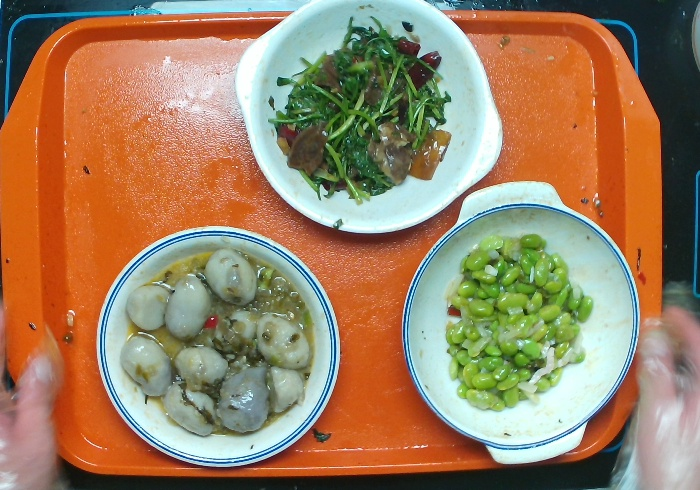HZYJPL-Dai_Er_Bai_Yuan_Wan: (225, 1, 504, 241)
HZYJPL-Lan_Bian_Dai_Er_Wan: (396, 177, 641, 468)
HZYJPL-Lan_Bian_Yuan_Die: (96, 227, 341, 469)
